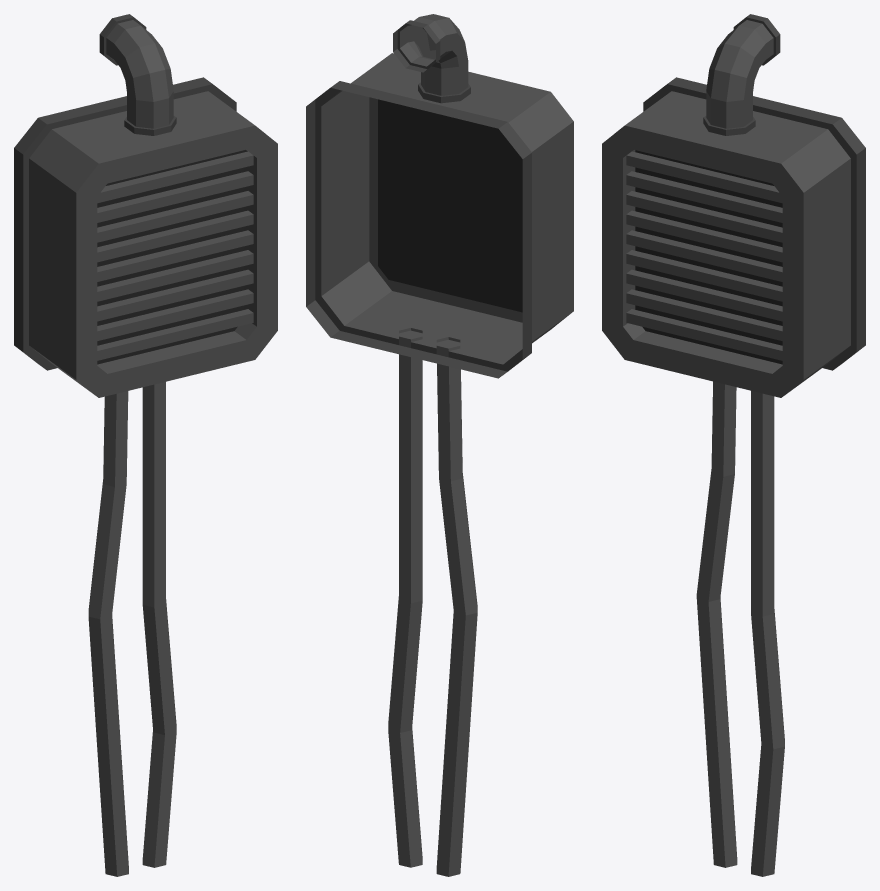
Rendered from SM_BuildingsDecor_09.fbx.
3 views of the same model, side by side, from view 1: azimuth 30°, elevation 25°; view 2: azimuth 150°, elevation 25°; view 3: azimuth 330°, elevation 25° (orthographic).
Visible parts, largest first — view 1: SM_BuildingsDecor_09; view 2: SM_BuildingsDecor_09; view 3: SM_BuildingsDecor_09.
Boxes of the visible parts, x1,y1,x2,y2 form: SM_BuildingsDecor_09: (14,14,277,876); SM_BuildingsDecor_09: (306,14,573,876); SM_BuildingsDecor_09: (602,14,865,876).
Size of the model in its own units: 0.5887 by 2.21 by 0.2687.
